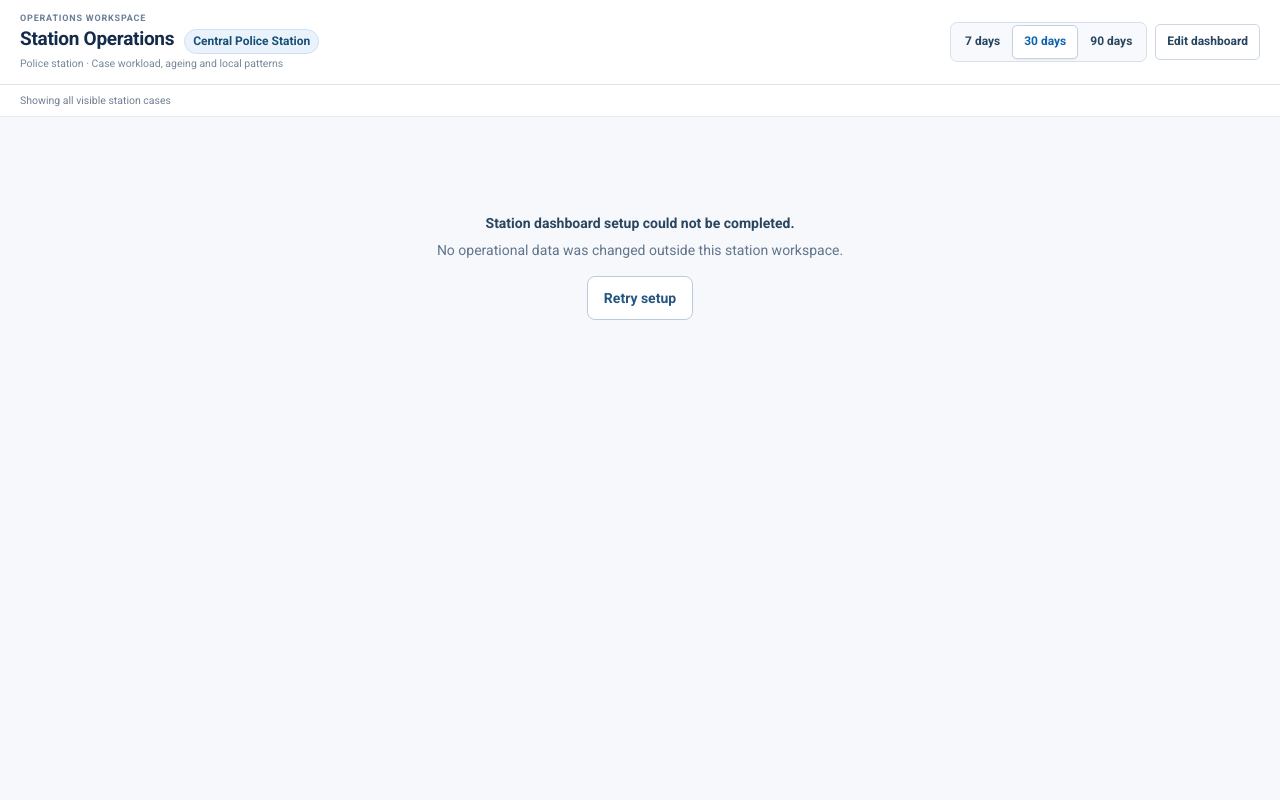
Test case: shows a bounded retry state and resumes an incomplete bootstrap without duplicates
This screenshot has width=1280, height=800.
Expected: the message shows "Station dashboard setup could not be completed.", [486,215,794,231]
Step 1. Click the button "Retry setup" → (640, 298), box [587,276,693,320]
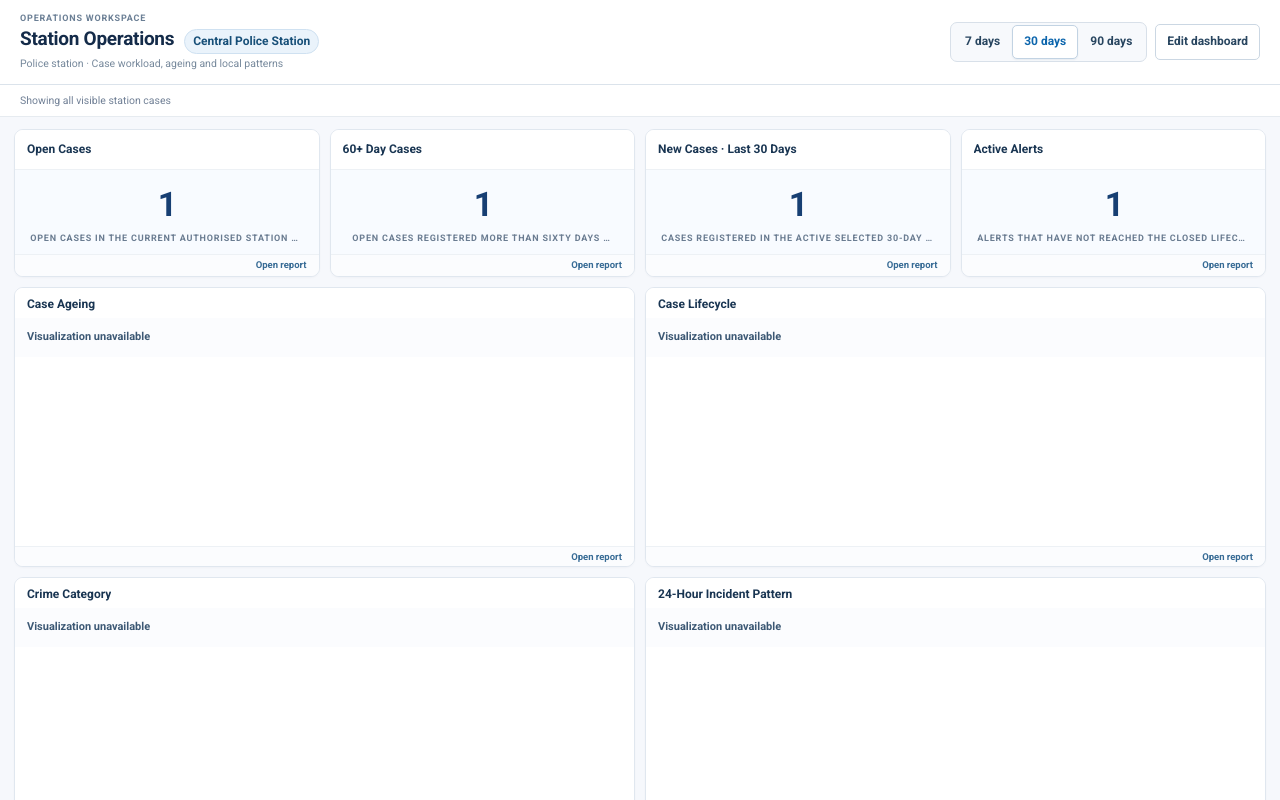
Now the heading "Open Cases" is shown, box [27,142,91,156]
